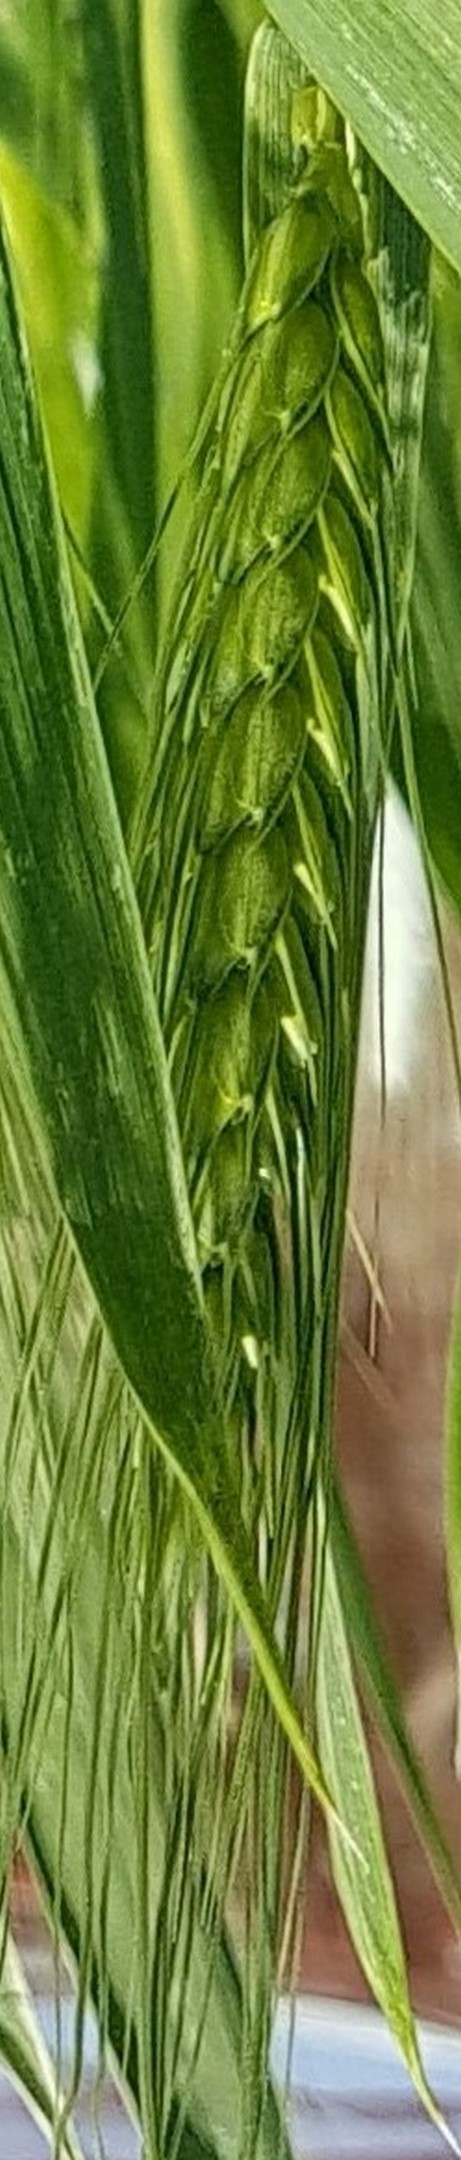Healthy Wheat: (125, 52, 424, 1431)
